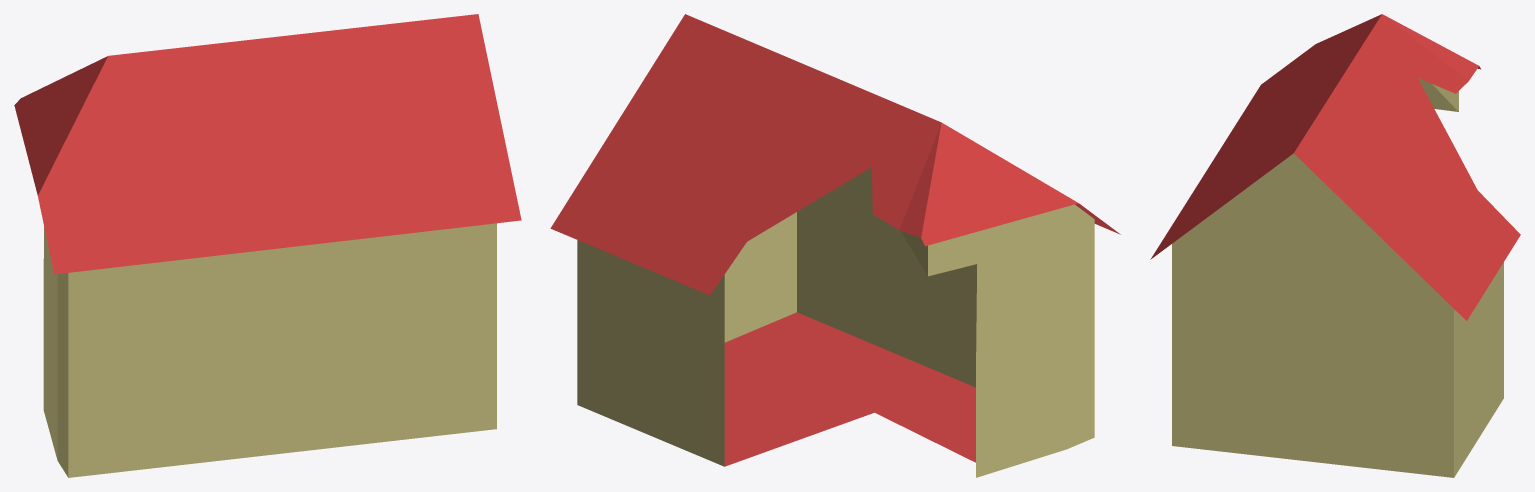
The picture shows the model from 3 angles, left to right: view 1: azimuth 30°, elevation 25°; view 2: azimuth 150°, elevation 25°; view 3: azimuth 270°, elevation 25°; orthographic projection. The views are drawn at different scales.
Size of the model in its own units: 21.02 by 15.54 by 14.53.
